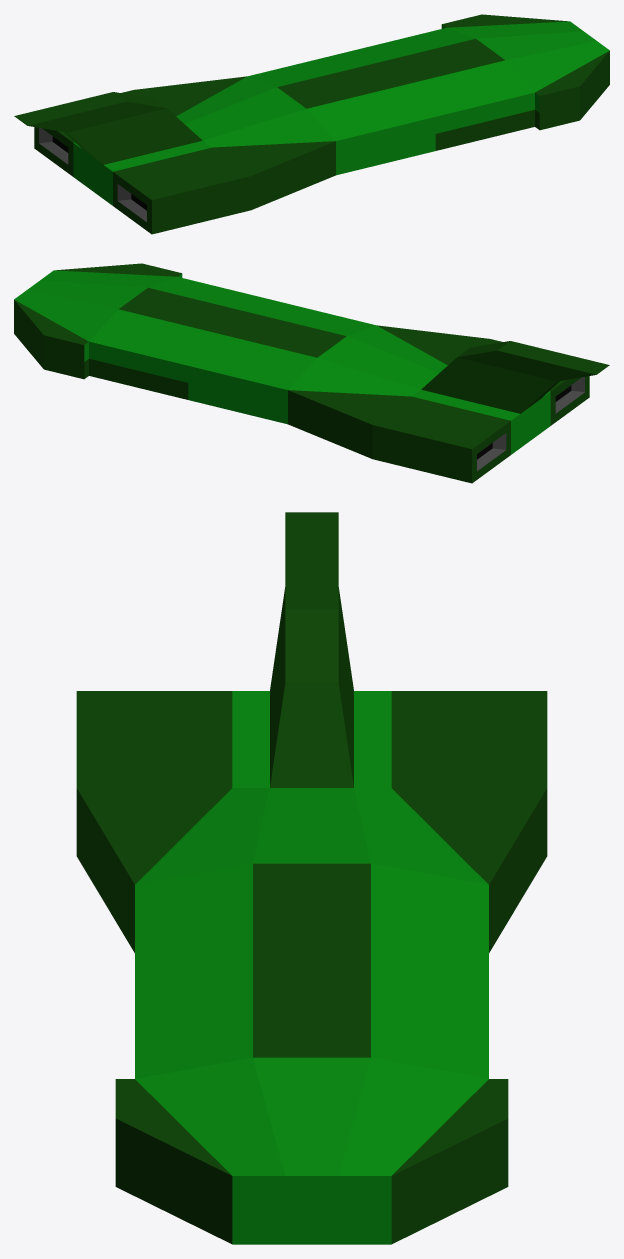
File: Hoverboard9(2).fbx
3 views of the same model, one above another, from view 1: azimuth 30°, elevation 25°; view 2: azimuth 150°, elevation 25°; view 3: azimuth 270°, elevation 25° (orthographic). The views are drawn at different scales.
Visible parts, largest first — view 1: Hoverboard 5; view 2: Hoverboard 5; view 3: Hoverboard 5.
Boxes of the visible parts, box(x1,y1,x2,y2) form: Hoverboard 5: box(14, 14, 609, 234); Hoverboard 5: box(14, 263, 609, 483); Hoverboard 5: box(76, 512, 547, 1244).
Size of the model in its own units: 845 by 125 by 302.
